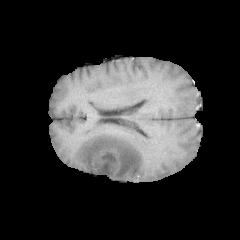glioma: (78, 129, 144, 178)
